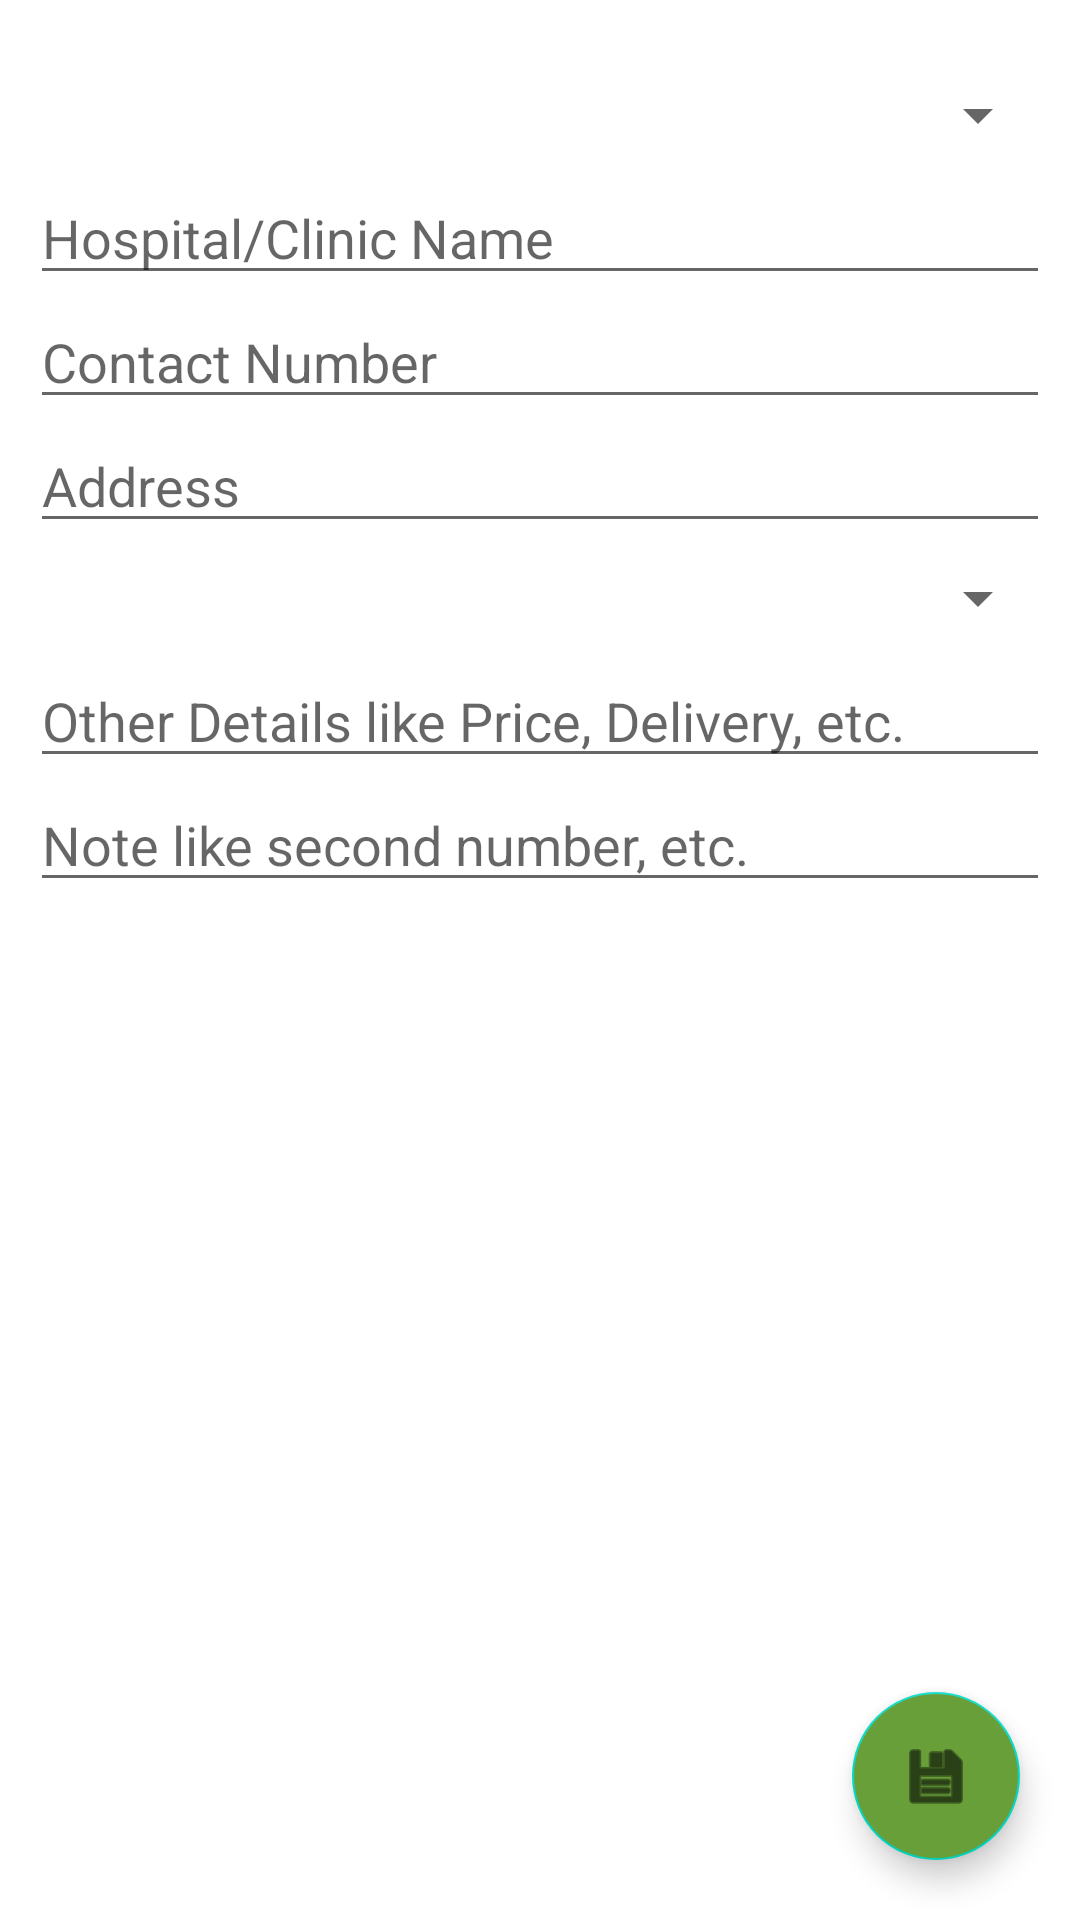

Where to tap for icons on this 1080px x 1920px app screen, as (x=x, y=y):
save: (x=936, y=1776)
